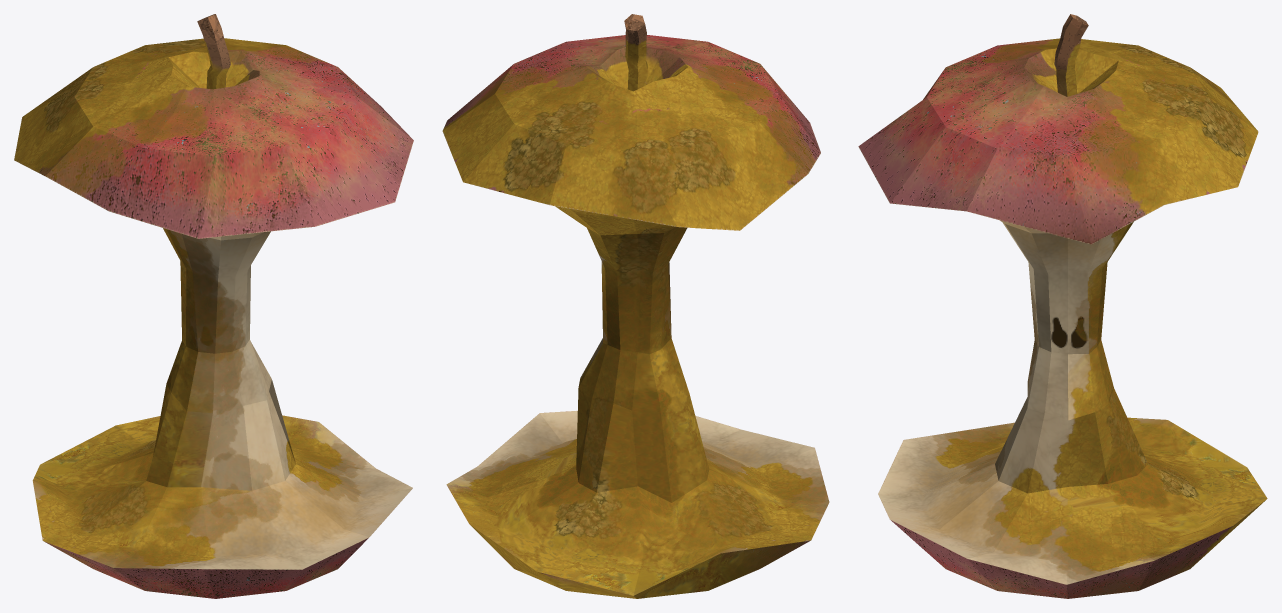
The model's file is low_poly_apple_core.glb.
3 renders of one model, left to right at view 1: azimuth 30°, elevation 25°; view 2: azimuth 150°, elevation 25°; view 3: azimuth 270°, elevation 25°, orthographic.
Parts seen in each view (by area): view 1: pSphere2; view 2: pSphere2; view 3: pSphere2.
Boxes of the visible parts, box(x1,y1,x2,y2) form: pSphere2: box(14, 14, 413, 598); pSphere2: box(442, 14, 829, 598); pSphere2: box(858, 14, 1267, 598).
Bounding box in the file's own units: 0.0143 × 0.0214 × 0.0145.
Materials: 1 (1 with a texture image).
